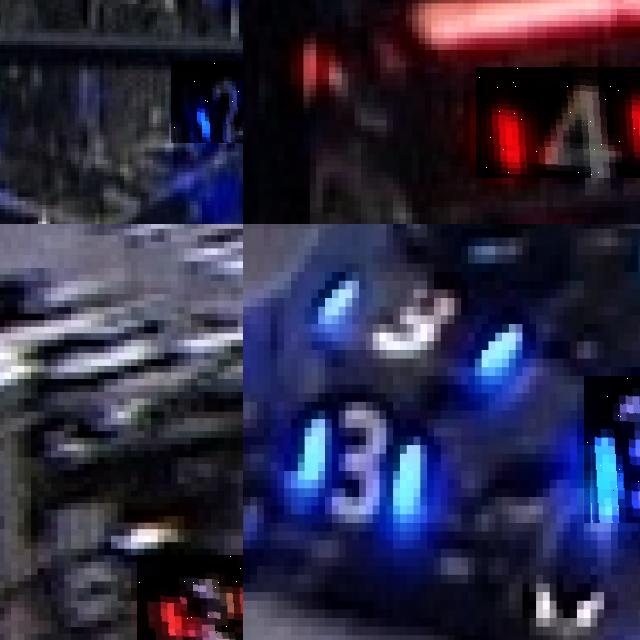B2: (171, 61, 243, 143)
B3: (298, 393, 420, 532), (583, 376, 640, 523)
R2: (137, 555, 243, 640)
R4: (476, 67, 640, 177)
